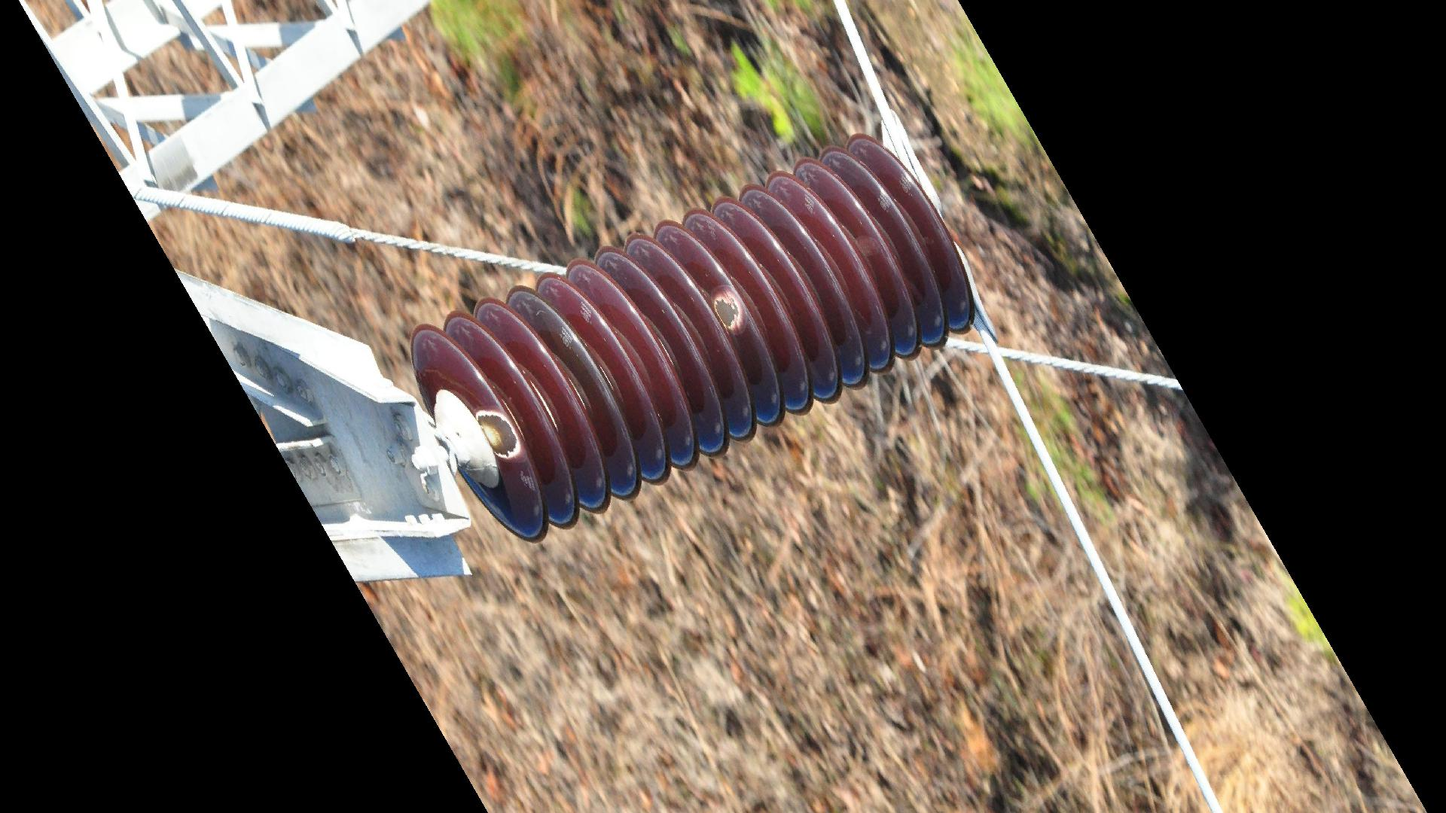insulator: (402, 129, 983, 547)
insulator_flashover: (471, 406, 523, 463), (711, 288, 744, 332)
